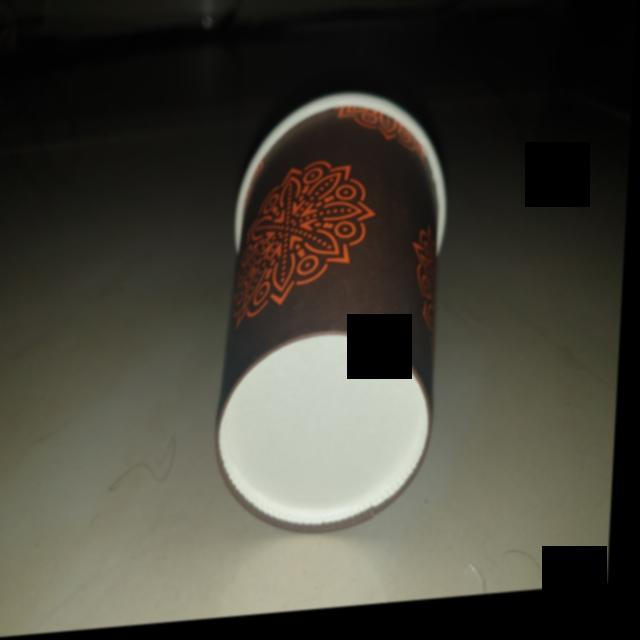cups: (205, 83, 462, 555)
